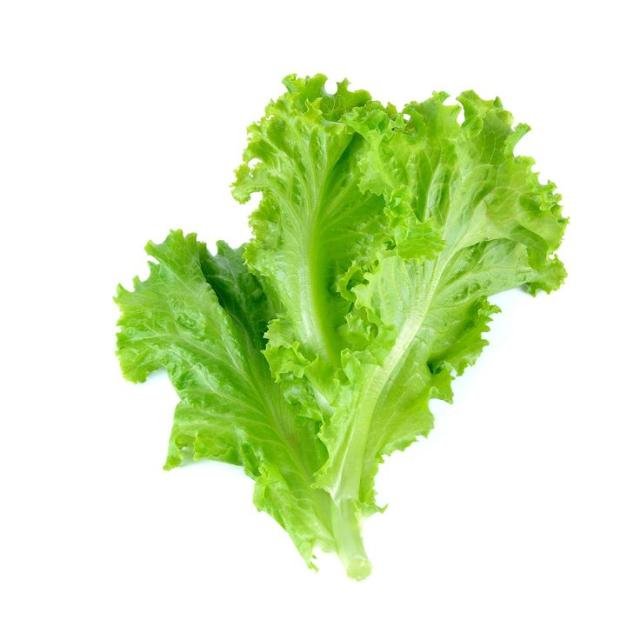lettuce: (117, 76, 566, 578)
